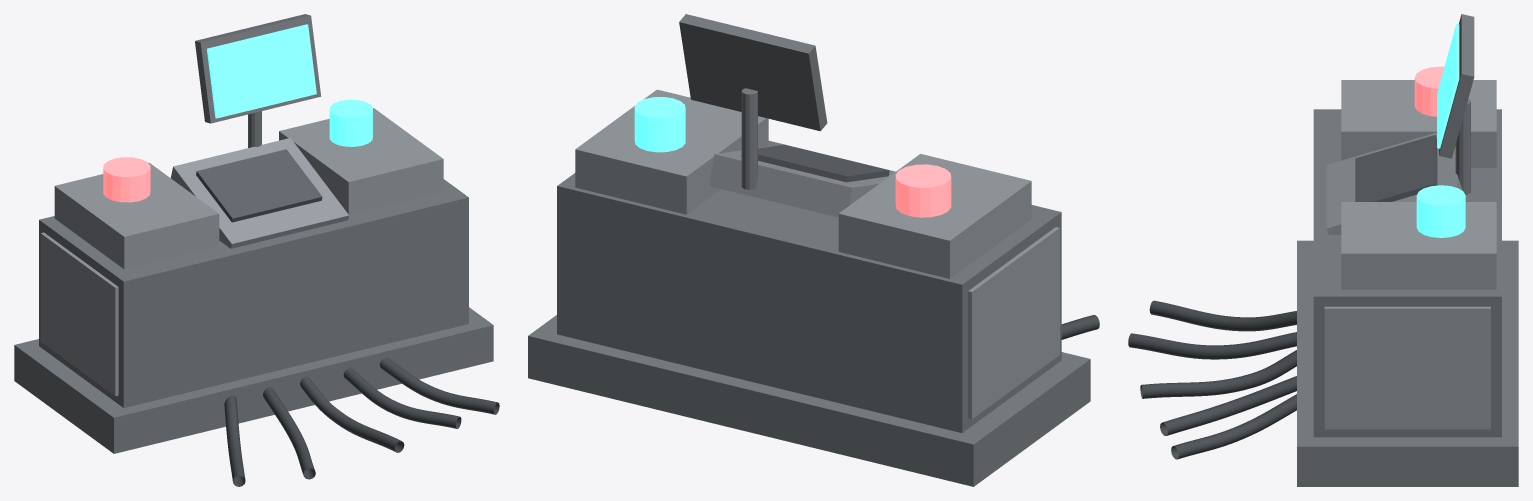
File: hazard_altar.glb
3 views of the same model, side by side, from view 1: azimuth 30°, elevation 25°; view 2: azimuth 150°, elevation 25°; view 3: azimuth 270°, elevation 25° (orthographic). The views are drawn at different scales.
Visible parts, largest first — view 1: Altar_Cabinet, Altar_Base, Left_Deck_Riser, Right_Deck_Riser, Side_Panel_-0.98, Terminal_Screen_Display, Operator_Desk_Slope, Keyboard_Matrix, Terminal_Monitor_Bezel, Emergency_Red_Beacon, Activation_Cyan_Pod, Floor_Cable_4 (+4 smaller); view 2: Altar_Cabinet, Altar_Base, Left_Deck_Riser, Side_Panel_-0.98, Right_Deck_Riser, Terminal_Monitor_Bezel, Operator_Desk_Slope, Emergency_Red_Beacon, Activation_Cyan_Pod, Keyboard_Matrix, Monitor_Arm_Pole, Floor_Cable_0; view 3: Side_Panel_0.98, Altar_Base, Altar_Cabinet, Right_Deck_Riser, Left_Deck_Riser, Keyboard_Matrix, Operator_Desk_Slope, Floor_Cable_1, Activation_Cyan_Pod, Floor_Cable_2, Terminal_Monitor_Bezel, Floor_Cable_0 (+5 smaller).
Boxes of the visible parts, <box> form: Altar_Cabinet: <box>39,179,468,407</box>; Altar_Base: <box>14,307,493,453</box>; Left_Deck_Riser: <box>54,162,219,269</box>; Right_Deck_Riser: <box>279,108,443,214</box>; Side_Panel_-0.98: <box>40,232,118,396</box>; Terminal_Screen_Display: <box>207,24,316,118</box>; Operator_Desk_Slope: <box>171,138,349,248</box>; Keyboard_Matrix: <box>196,149,322,222</box>; Terminal_Monitor_Bezel: <box>195,14,321,123</box>; Emergency_Red_Beacon: <box>103,157,150,202</box>; Activation_Cyan_Pod: <box>329,99,372,146</box>; Floor_Cable_4: <box>379,358,499,414</box>; Altar_Cabinet: <box>557,140,1061,432</box>; Altar_Base: <box>528,315,1090,486</box>; Left_Deck_Riser: <box>838,154,1031,278</box>; Side_Panel_-0.98: <box>968,227,1059,419</box>; Right_Deck_Riser: <box>575,89,768,214</box>; Terminal_Monitor_Bezel: <box>679,14,827,131</box>; Operator_Desk_Slope: <box>709,144,895,217</box>; Emergency_Red_Beacon: <box>895,164,951,217</box>; Activation_Cyan_Pod: <box>634,97,685,152</box>; Keyboard_Matrix: <box>741,144,889,182</box>; Monitor_Arm_Pole: <box>741,88,757,189</box>; Floor_Cable_0: <box>1061,315,1099,339</box>; Side_Panel_0.98: <box>1324,306,1490,429</box>; Altar_Base: <box>1297,240,1518,486</box>; Altar_Cabinet: <box>1313,109,1501,437</box>; Right_Deck_Riser: <box>1341,202,1496,289</box>; Left_Deck_Riser: <box>1341,80,1496,167</box>; Keyboard_Matrix: <box>1355,135,1437,201</box>; Operator_Desk_Slope: <box>1326,132,1466,234</box>; Floor_Cable_1: <box>1128,332,1296,359</box>; Activation_Cyan_Pod: <box>1416,185,1465,237</box>; Floor_Cable_2: <box>1140,350,1296,398</box>; Terminal_Monitor_Bezel: <box>1439,14,1474,158</box>; Floor_Cable_0: <box>1149,300,1296,331</box>.
Size of the model in its own units: 2.2 by 1.77 by 1.76.
